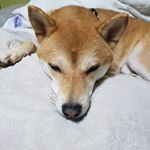puppy: (20, 1, 134, 129)
